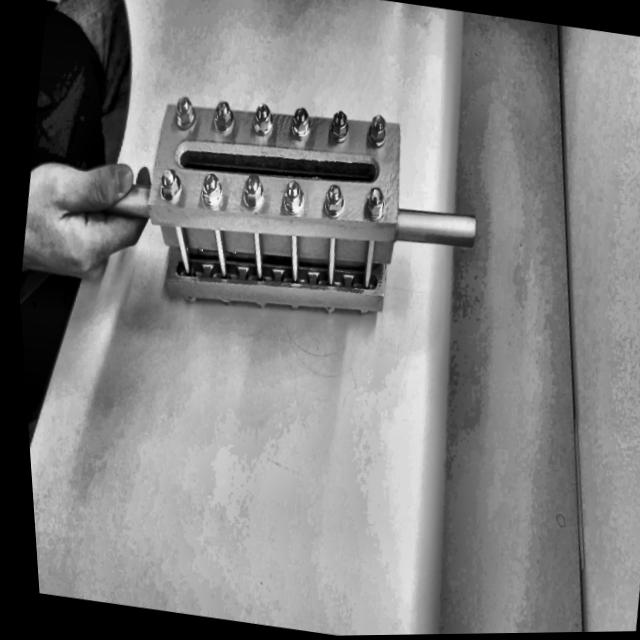ShuiWeiQi_12: (97, 0, 512, 381)
